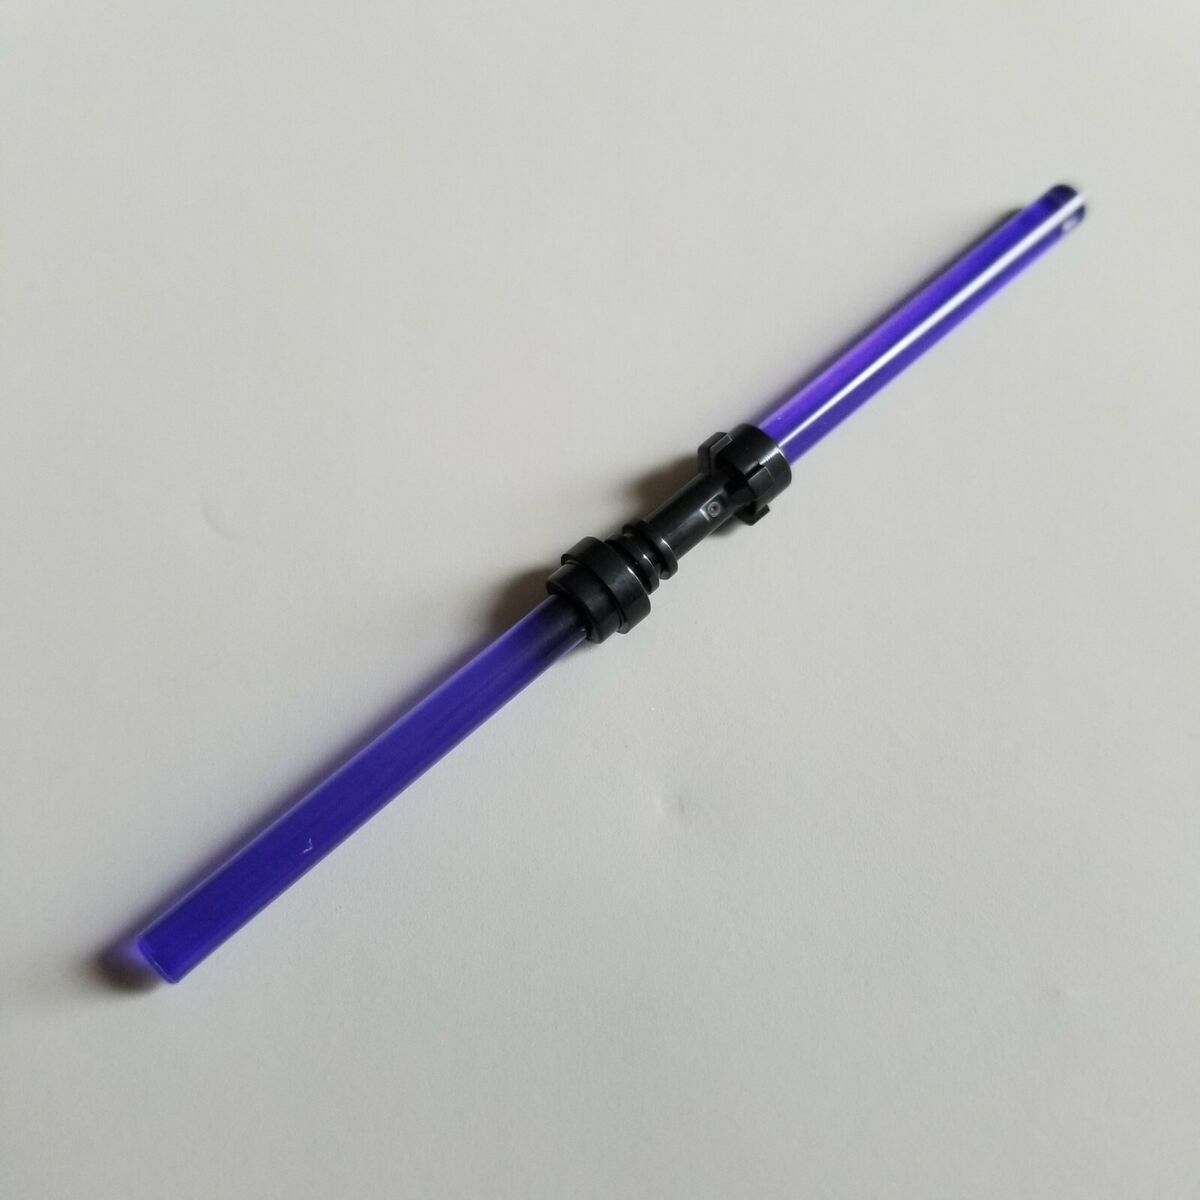lightsaber: (0, 96, 1162, 1093)
